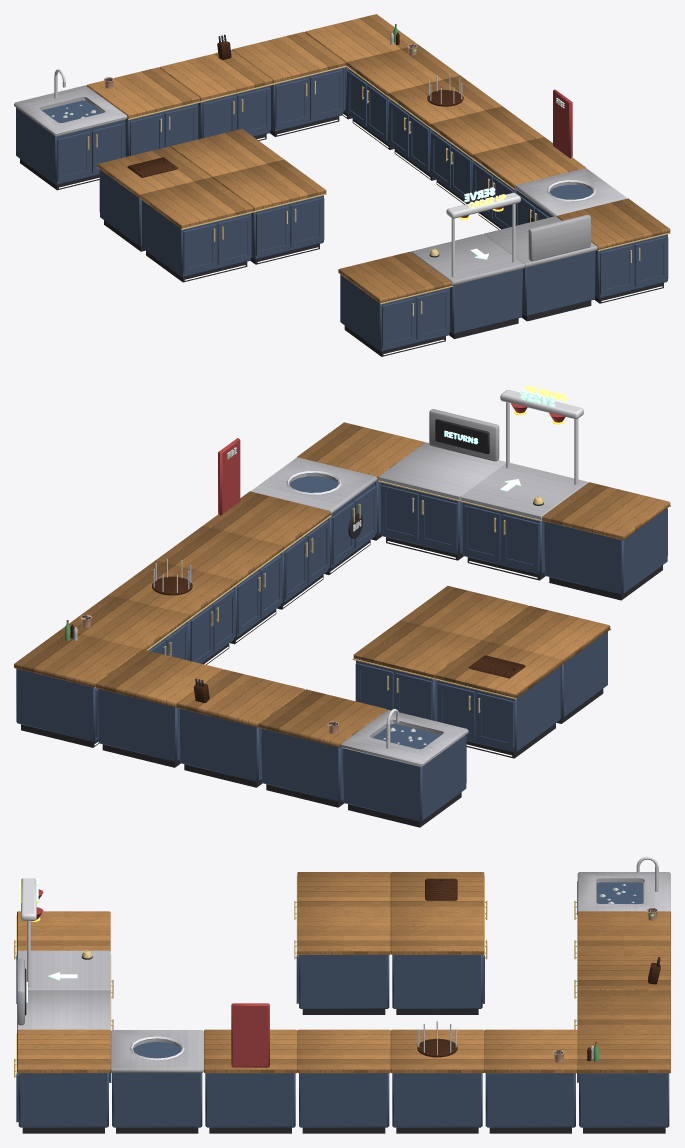
File: kr_layD2_st2.glb
3 views of the same model, one above another, from view 1: azimuth 30°, elevation 25°; view 2: azimuth 150°, elevation 25°; view 3: azimuth 270°, elevation 25° (orthographic). The views are drawn at different scales.
Parts seen in each view (by area): view 1: vc_m0_r4, kr_layD2_st2_butcher, kr_layD2_st2_steel, vc_m8_r2, kr_layD2_st2_darkwood, kr_layD2_st2_warmglow; view 2: vc_m0_r4, kr_layD2_st2_butcher, kr_layD2_st2_steel, vc_m8_r2, kr_layD2_st2_darkwood, kr_layD2_st2_warmglow; view 3: vc_m0_r4, kr_layD2_st2_butcher, kr_layD2_st2_steel, vc_m8_r2, kr_layD2_st2_darkwood.
Part boxes in pixels (box(x1,y1,x2,y2)): vc_m0_r4: box(16, 26, 668, 356); kr_layD2_st2_butcher: box(86, 14, 670, 303); kr_layD2_st2_steel: box(14, 85, 627, 285); vc_m8_r2: box(54, 65, 670, 316); kr_layD2_st2_darkwood: box(127, 32, 463, 177); kr_layD2_st2_warmglow: box(59, 114, 662, 354); vc_m0_r4: box(16, 403, 667, 827); kr_layD2_st2_butcher: box(14, 422, 670, 747); kr_layD2_st2_steel: box(250, 409, 588, 767); vc_m8_r2: box(95, 390, 670, 748); kr_layD2_st2_darkwood: box(70, 576, 525, 702); kr_layD2_st2_warmglow: box(94, 541, 537, 756); vc_m0_r4: box(16, 881, 669, 1133); kr_layD2_st2_butcher: box(17, 872, 670, 1073); kr_layD2_st2_steel: box(17, 872, 670, 1072); vc_m8_r2: box(14, 856, 658, 1077); kr_layD2_st2_darkwood: box(417, 878, 660, 1061).
Size of the model in its own units: 6 by 2.14 by 8.44.
14 materials, 4 textured.
